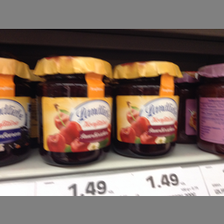jam: (35, 56, 114, 167), (114, 60, 182, 158), (1, 57, 30, 168), (194, 64, 224, 155)
